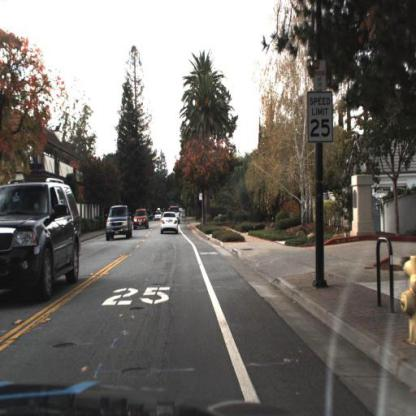car: (2, 178, 85, 306), (104, 203, 134, 243), (159, 208, 182, 238), (134, 206, 151, 233), (169, 206, 183, 227)
